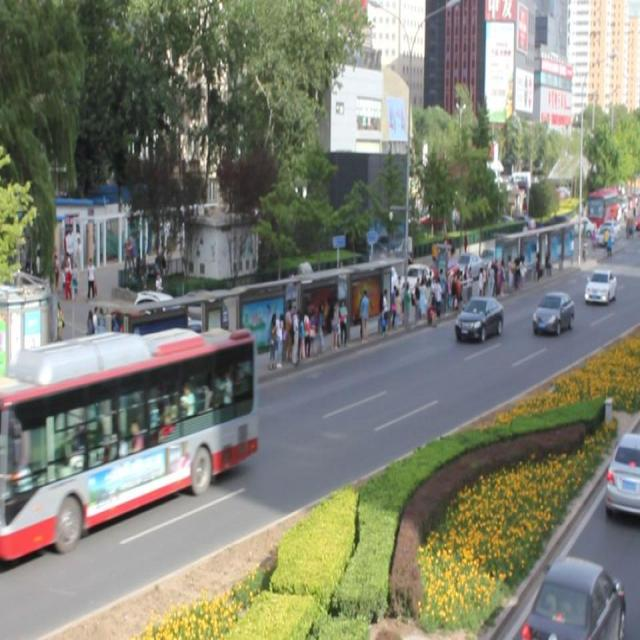car: (455, 292, 502, 341), (532, 289, 573, 333), (583, 266, 615, 303)
van: (1, 330, 254, 536)
